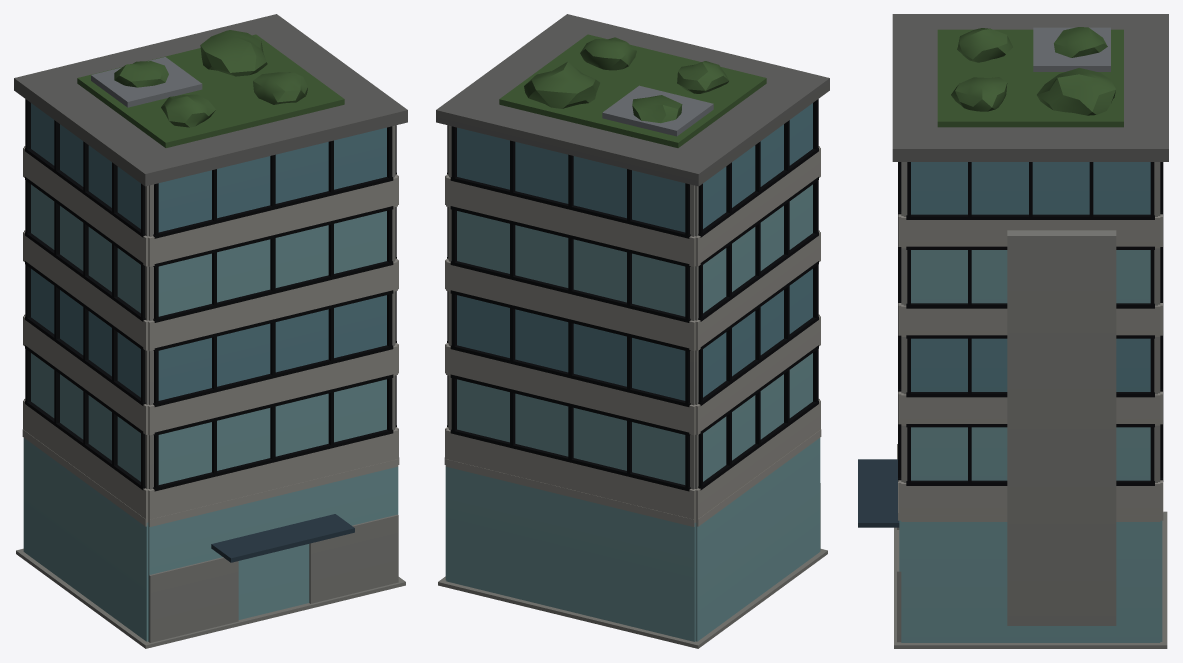
Rendered from town_city_block.glb.
3 views of the same model, side by side, from view 1: azimuth 30°, elevation 25°; view 2: azimuth 150°, elevation 25°; view 3: azimuth 270°, elevation 25° (orthographic). The views are drawn at different scales.
Visible parts, largest first — view 1: prop; view 2: prop; view 3: prop.
Boxes of the visible parts, box(x1,y1,x2,y2) form: prop: box(14, 14, 407, 648); prop: box(436, 14, 829, 648); prop: box(858, 14, 1168, 648).
Bounding box in the file's own units: 11.34 × 20.39 × 10.8.
